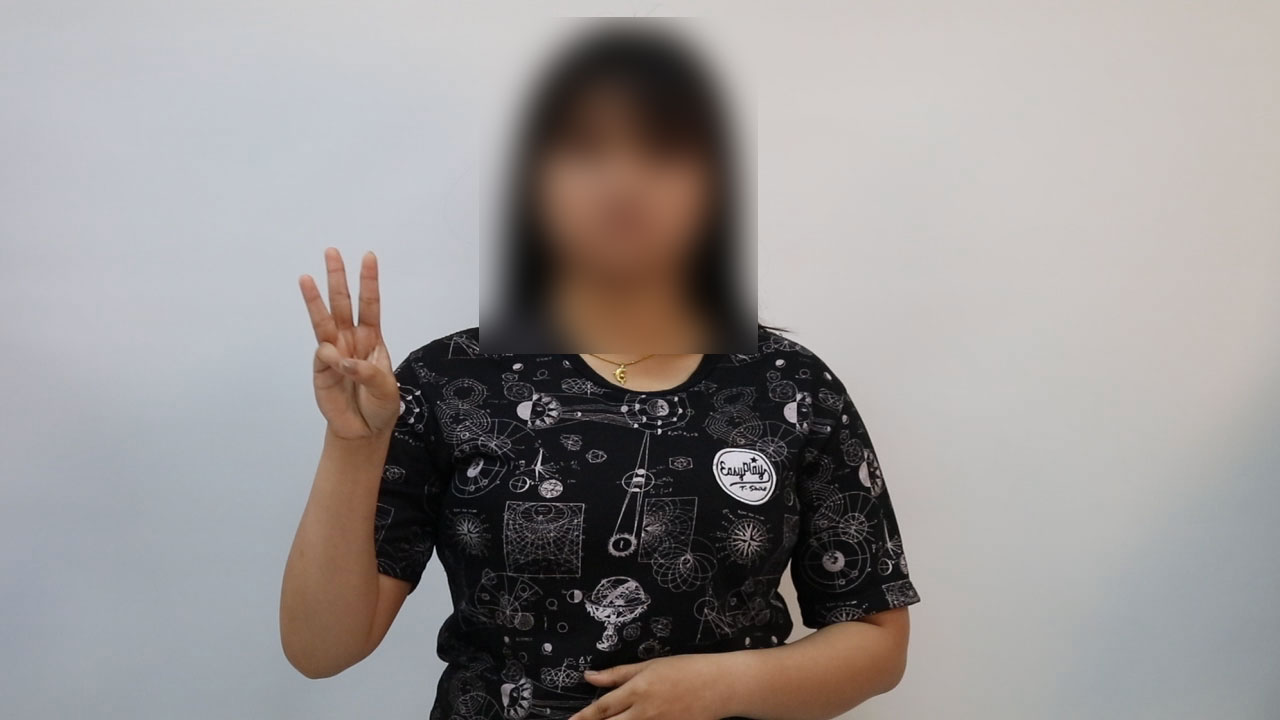wor: (291, 240, 409, 449)
